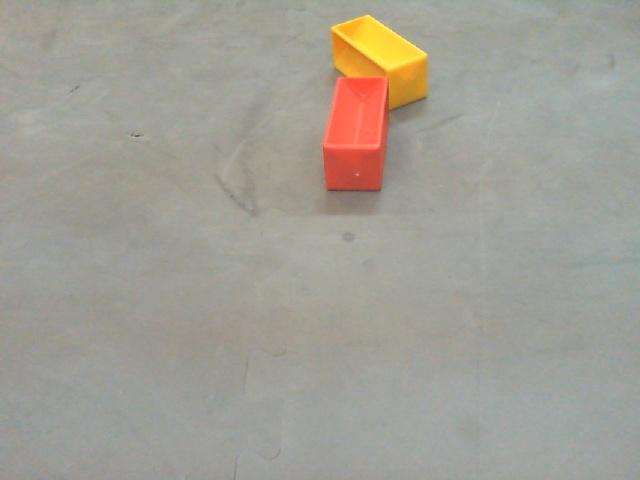RedSample: (320, 75, 389, 192)
YellowSample: (329, 11, 429, 112)
